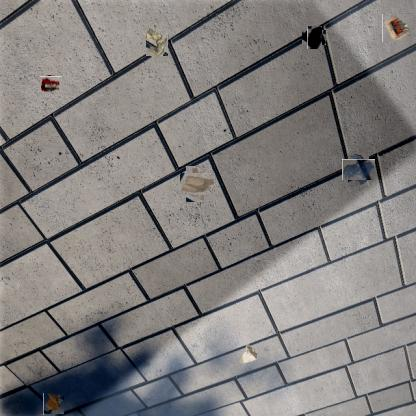dirty: (382, 14, 413, 42), (183, 169, 211, 199), (146, 28, 168, 56), (235, 342, 259, 366), (43, 394, 64, 416), (42, 75, 61, 94)
liquid: (345, 156, 372, 183), (305, 28, 324, 47)
